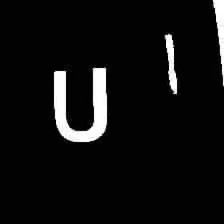LTR_U: (40, 60, 119, 152)
